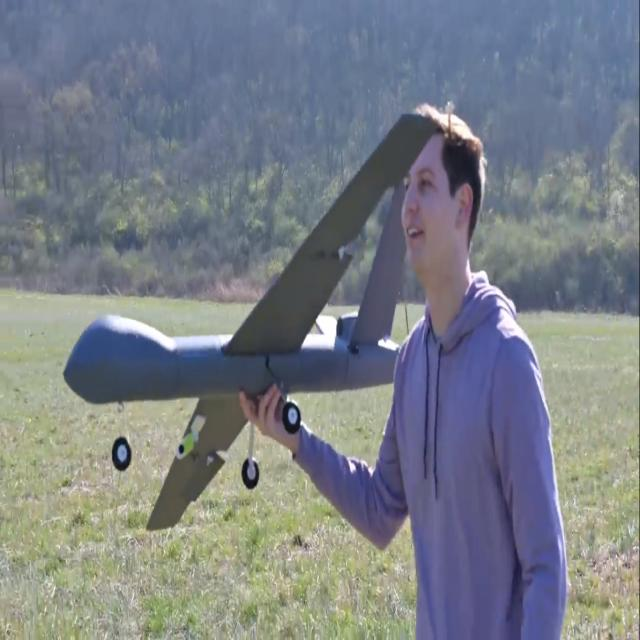drones: (49, 97, 433, 545)
